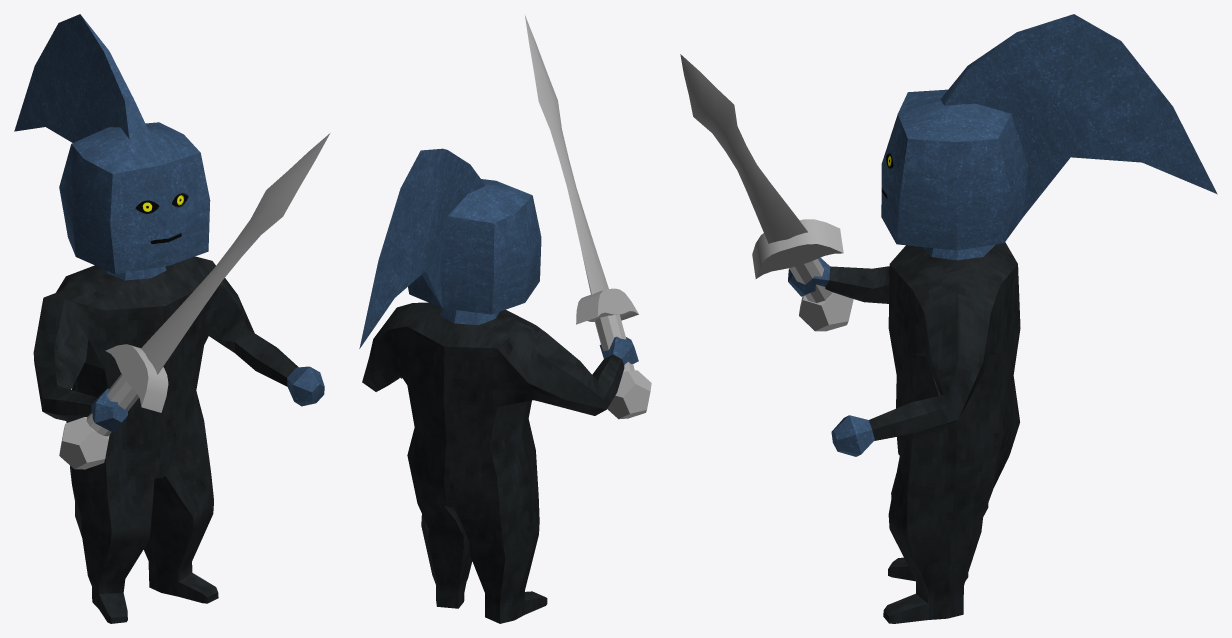
File: enemyMelee.fbx
3 views of the same model, side by side, from view 1: azimuth 30°, elevation 25°; view 2: azimuth 150°, elevation 25°; view 3: azimuth 270°, elevation 25° (orthographic). The views are drawn at different scales.
Visible parts, largest first — view 1: pCube3, polySurface8, polySurface11; view 2: pCube3, polySurface11, polySurface8; view 3: pCube3, polySurface8, polySurface11.
Part boxes in pixels (x1=…): pCube3: x1=14, y1=14, x2=324, y2=623; polySurface8: x1=141, y1=133, x2=330, y2=374; polySurface11: x1=59, y1=344, x2=168, y2=469; pCube3: x1=359, y1=148, x2=638, y2=623; polySurface11: x1=576, y1=288, x2=651, y2=419; polySurface8: x1=524, y1=14, x2=608, y2=295; pCube3: x1=788, y1=14, x2=1217, y2=623; polySurface8: x1=680, y1=54, x2=807, y2=243; polySurface11: x1=752, y1=219, x2=853, y2=331.
Bounding box in the file's own units: 11 × 20.67 × 17.26.
